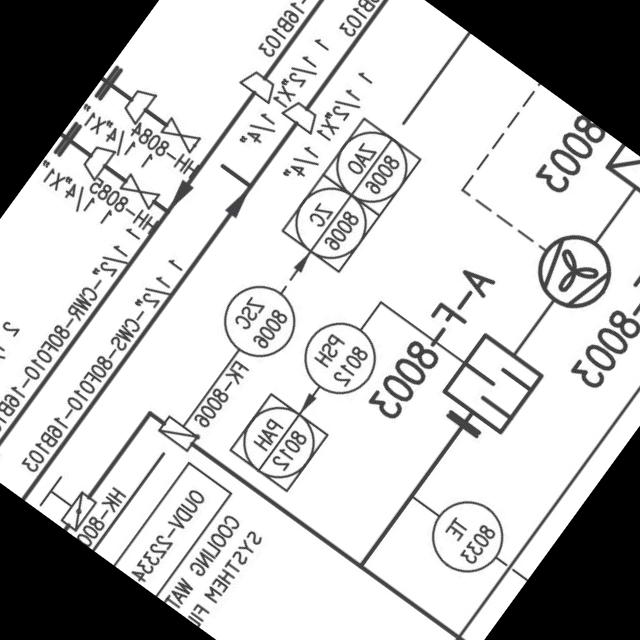BV: (30, 463, 100, 532)
CV2: (151, 409, 201, 456)
F: (520, 216, 628, 324)
GV: (151, 108, 204, 158), (113, 164, 161, 210)
SP: (231, 61, 281, 108), (276, 91, 324, 136), (116, 80, 160, 126), (74, 134, 118, 180)
